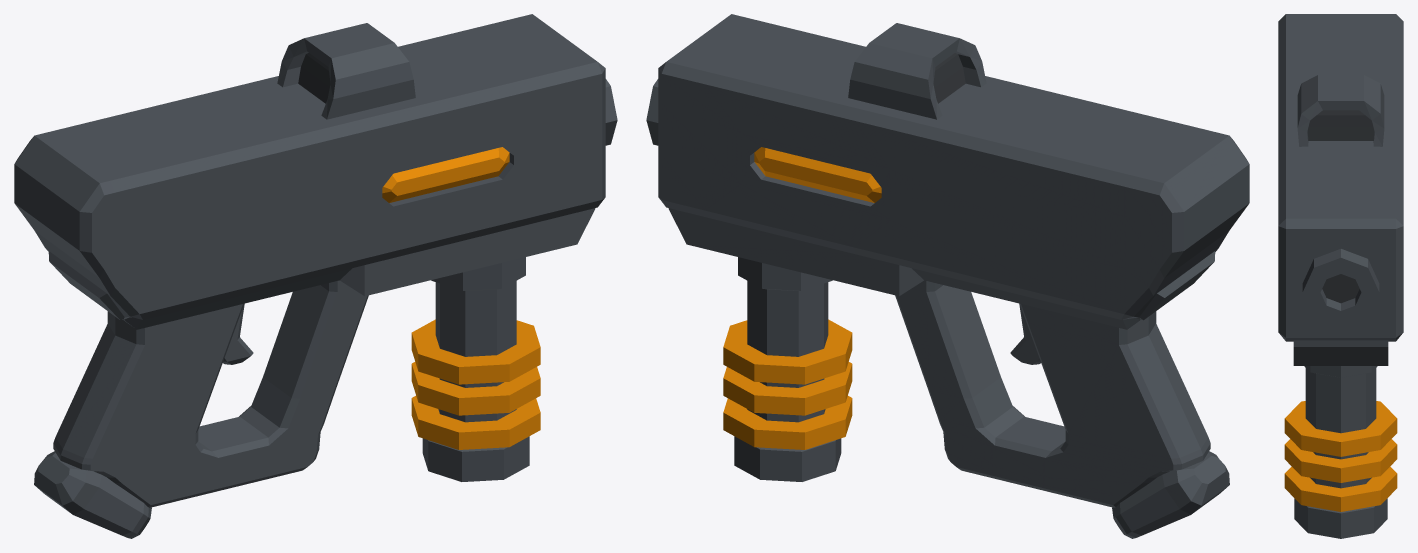
File: gun.fbx
The picture shows the model from 3 angles, left to right: view 1: azimuth 30°, elevation 25°; view 2: azimuth 150°, elevation 25°; view 3: azimuth 270°, elevation 25°; orthographic projection. The views are drawn at different scales.
Parts seen in each view (by area): view 1: Cube; view 2: Cube; view 3: Cube.
Part boxes in pixels (box(x1,y1,x2,y2)): Cube: box(14, 14, 617, 538); Cube: box(646, 14, 1249, 538); Cube: box(1278, 14, 1403, 538).
Bounding box in the file's own units: 200 × 157 × 47.11.
